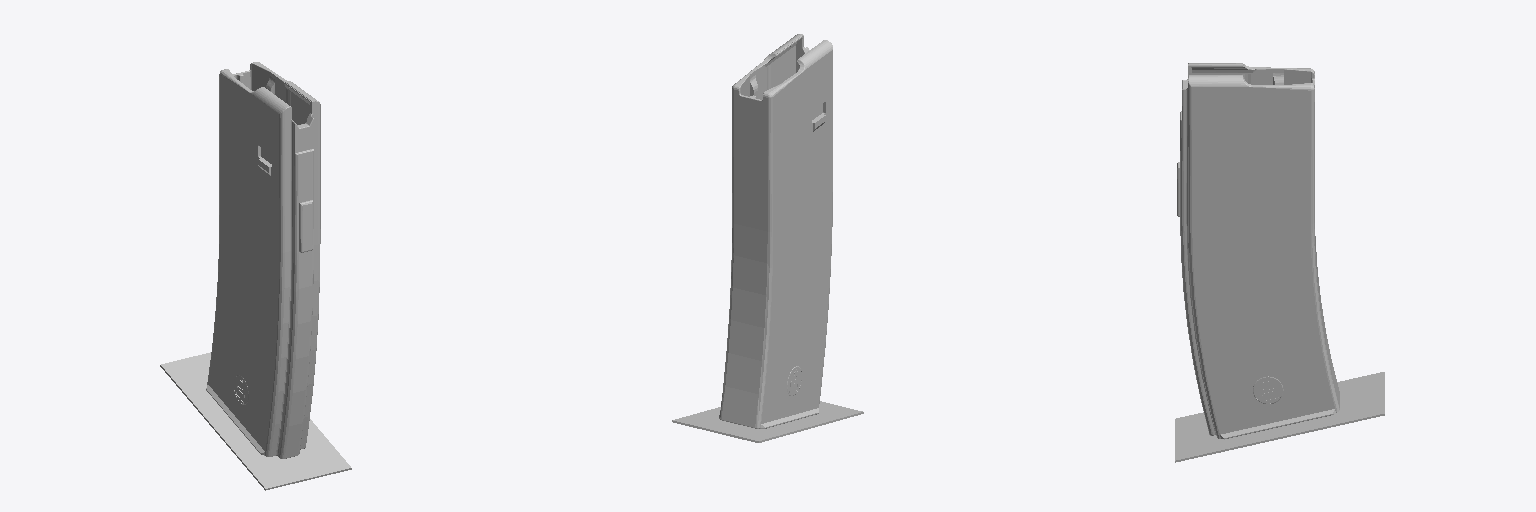
File: Ivan's Standard Mag Body.obj
The picture shows the model from 3 angles: view 1: azimuth 30°, elevation 25°; view 2: azimuth 150°, elevation 25°; view 3: azimuth 270°, elevation 25°; orthographic projection.
Visible parts, largest first — view 1: Solid2; view 2: Solid2; view 3: Solid2.
Boxes of the visible parts, box(x1,y1,x2,y2) form: Solid2: box(160, 62, 351, 490); Solid2: box(672, 34, 863, 442); Solid2: box(1175, 63, 1384, 462).
Bounding box in the file's own units: 47.67 × 196 × 101.